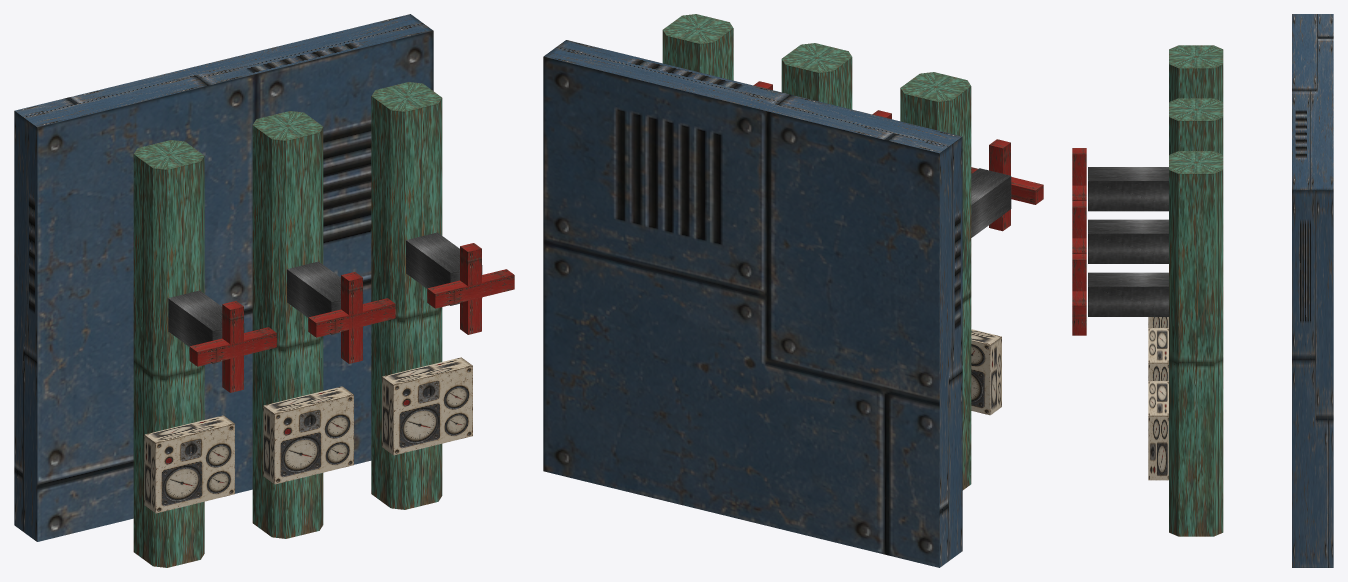
File: pipe-manifold.obj
3 renders of one model, left to right at view 1: azimuth 30°, elevation 25°; view 2: azimuth 150°, elevation 25°; view 3: azimuth 270°, elevation 25°, orthographic. The views are drawn at different scales.
Parts seen in each view (by area): view 1: pipe-manifold; view 2: pipe-manifold; view 3: pipe-manifold.
Part boxes in pixels (x1,y1,x2,y2): pipe-manifold: (14, 14, 514, 567); pipe-manifold: (543, 14, 1043, 567); pipe-manifold: (1072, 14, 1333, 567).
Bounding box in the file's own units: 1 × 1 × 0.6275.
Materials: 2 (2 with a texture image).
